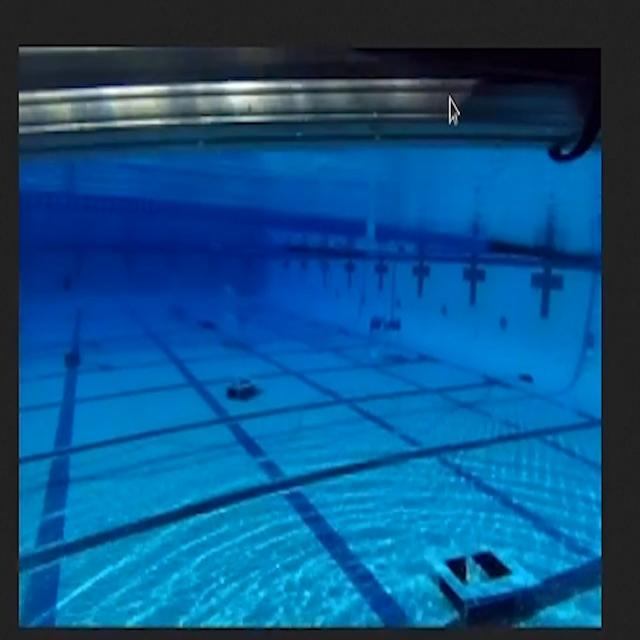Bin: (424, 538, 543, 604)
